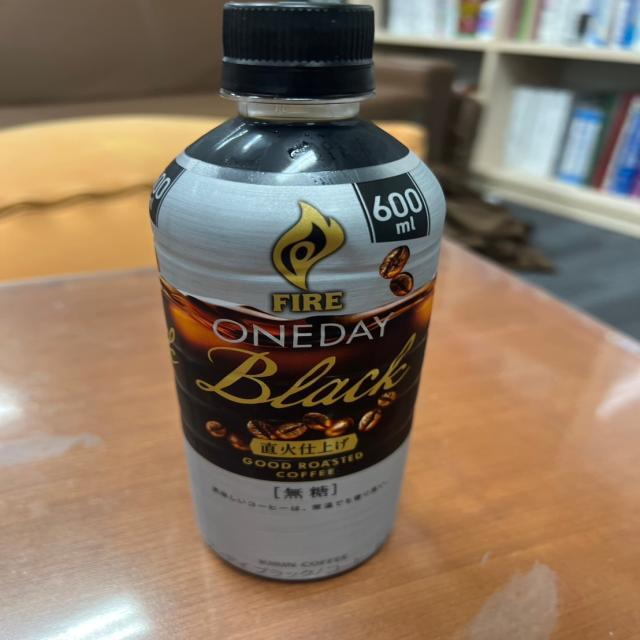coffee-black: (148, 0, 449, 577)
